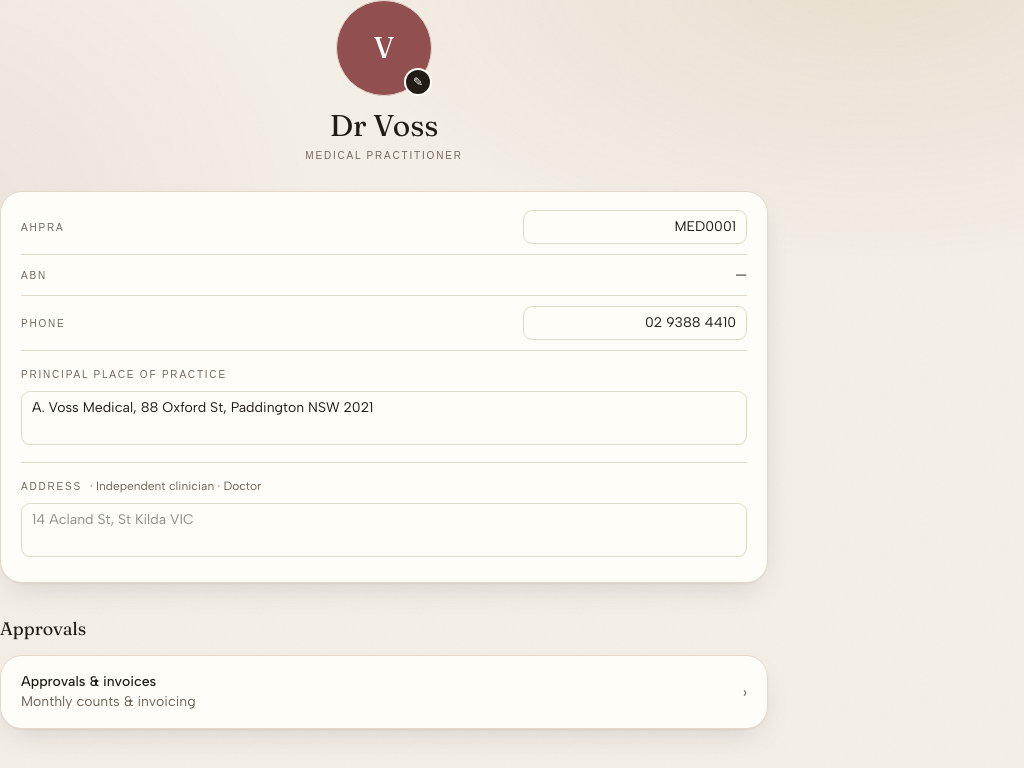
A required contact field cannot be cleared › marks every blocked field at once, not just the first
Clear the field labelled "Phone" at (635, 323), box left=523, top=306, right=747, bottom=340
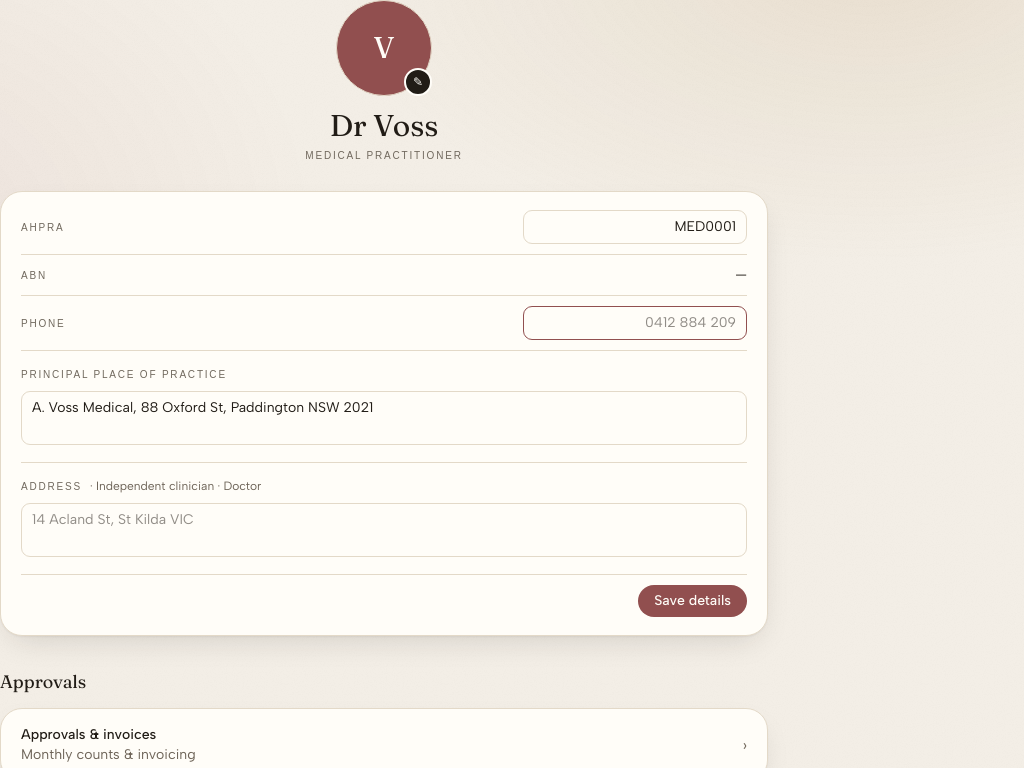
Clear the text box labelled "Principal place of practice" at (384, 418), box left=21, top=391, right=747, bottom=445
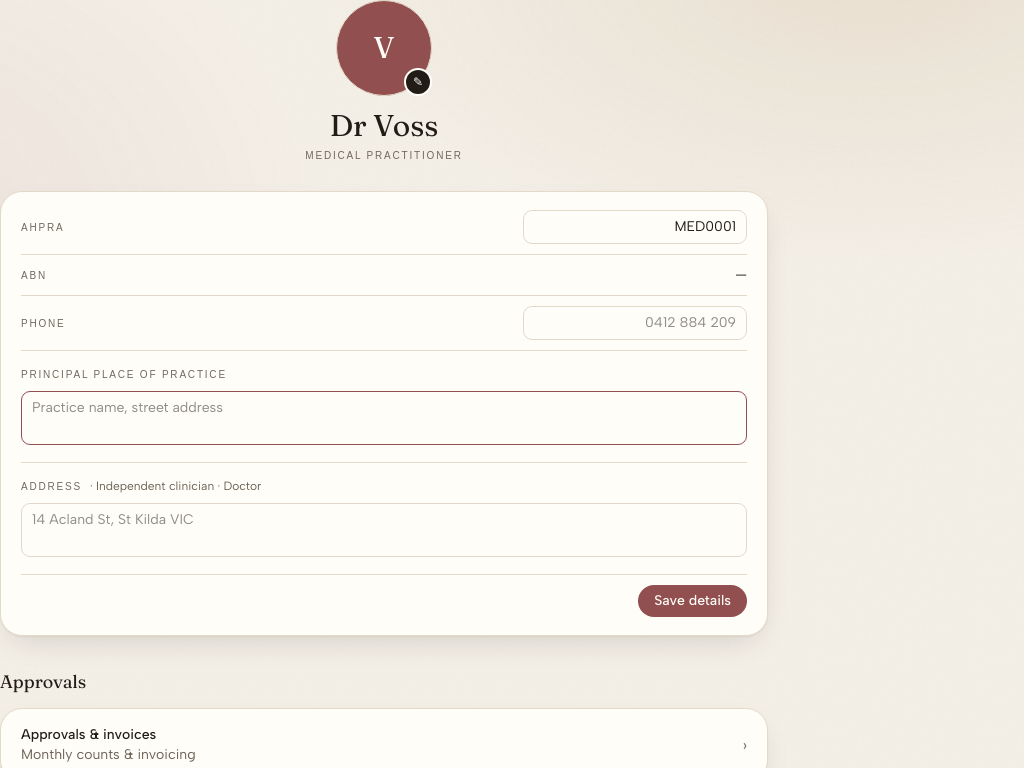
Click the button "Save details".
click(693, 601)  # box left=638, top=585, right=747, bottom=617
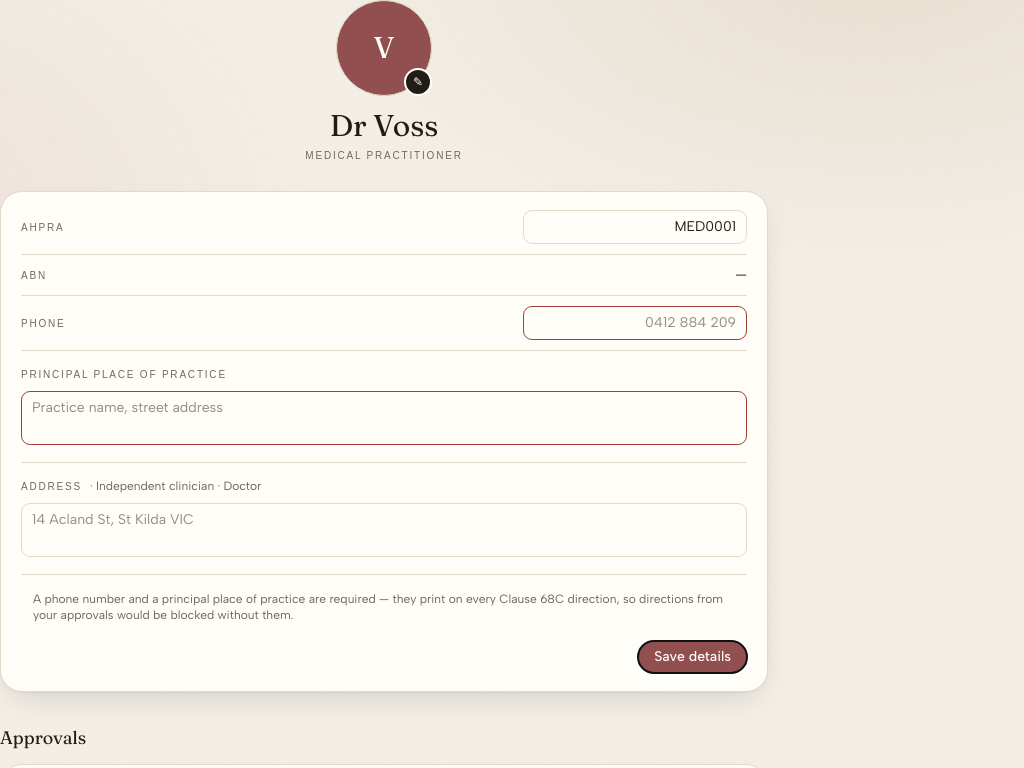
expect the message shows "phone number": met, box left=33, top=592, right=723, bottom=622
expect the message shows "principal place of practice": met, box left=33, top=592, right=723, bottom=622
expect the message shows "are required": met, box left=33, top=592, right=723, bottom=622
